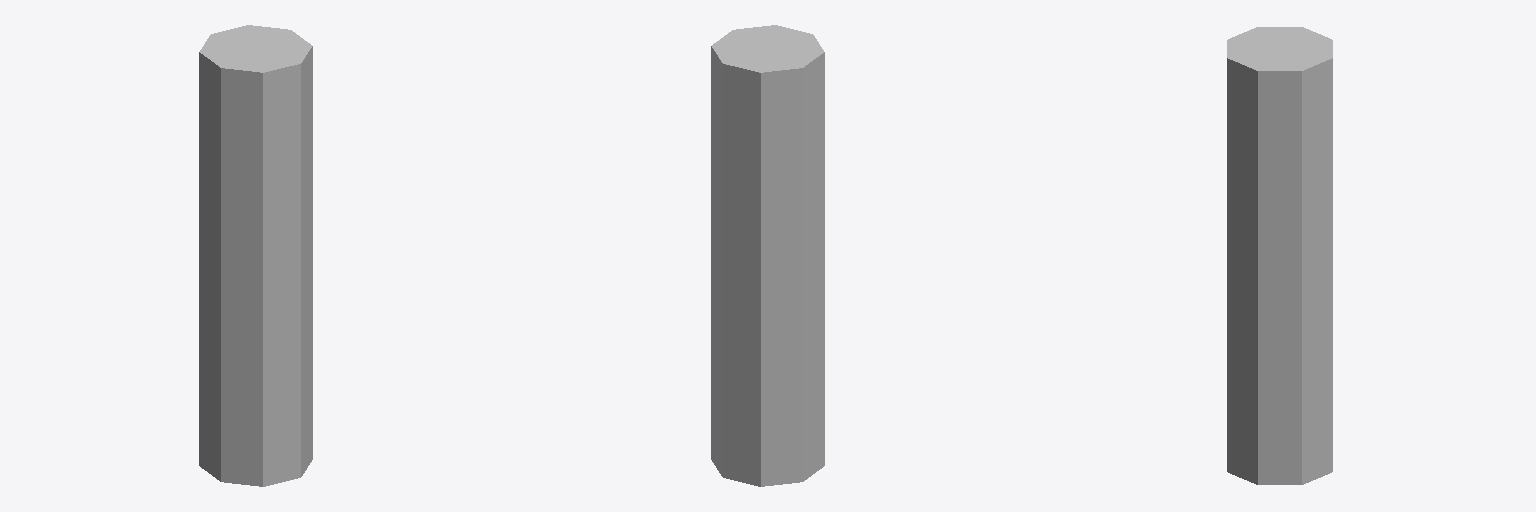
The model's file is pipe.obj.
The picture shows the model from 3 angles: view 1: azimuth 30°, elevation 25°; view 2: azimuth 150°, elevation 25°; view 3: azimuth 270°, elevation 25°; orthographic projection.
Visible parts, largest first — view 1: pipe_pipemp; view 2: pipe_pipemp; view 3: pipe_pipemp.
Part boxes in pixels (left/top/right/bottom): pipe_pipemp: left=199, top=25, right=312, bottom=486; pipe_pipemp: left=711, top=25, right=824, bottom=486; pipe_pipemp: left=1227, top=27, right=1332, bottom=484.
Bounding box in the file's own units: 0.231 × 1 × 0.231.